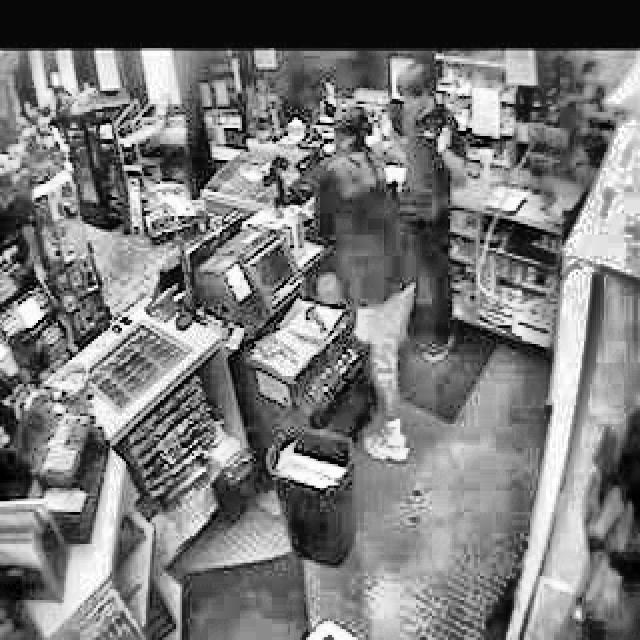robbery: (373, 59, 475, 185)
